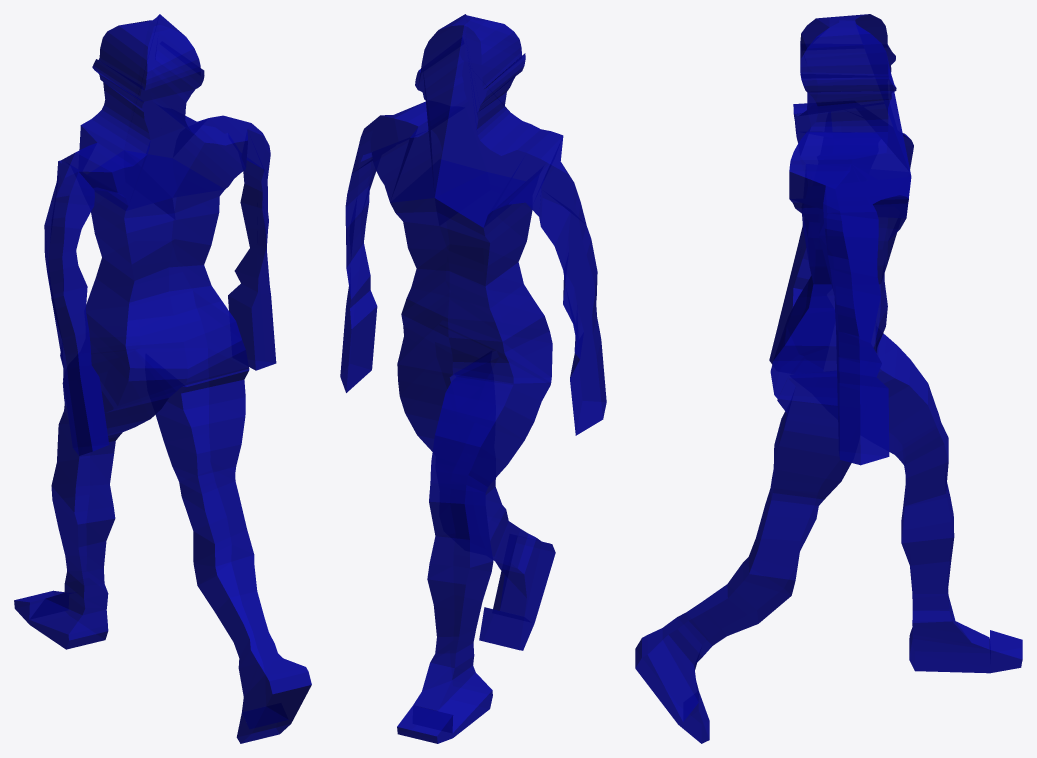
File: woman_000033.obj
3 views of the same model, side by side, from view 1: azimuth 30°, elevation 25°; view 2: azimuth 150°, elevation 25°; view 3: azimuth 270°, elevation 25° (orthographic). The views are drawn at different scales.
Visible parts, largest first — view 1: Cube_Cube.001; view 2: Cube_Cube.001; view 3: Cube_Cube.001.
Boxes of the visible parts, bbox=[...] form: Cube_Cube.001: bbox=[14, 14, 311, 743]; Cube_Cube.001: bbox=[340, 14, 606, 743]; Cube_Cube.001: bbox=[635, 14, 1022, 743].
Bounding box in the file's own units: 3.63 × 10.04 × 5.07.
